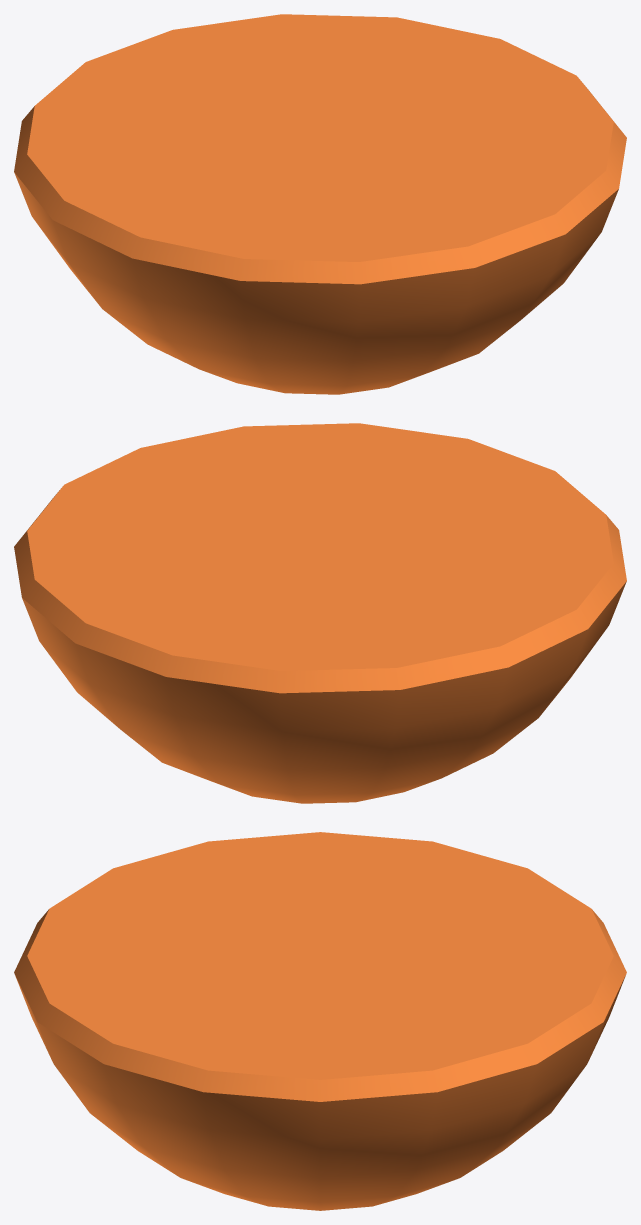
Rendered from Leg_07.fbx.
3 views of the same model, one above another, from view 1: azimuth 30°, elevation 25°; view 2: azimuth 150°, elevation 25°; view 3: azimuth 270°, elevation 25° (orthographic).
Parts seen in each view (by area): view 1: Leg_07; view 2: Leg_07; view 3: Leg_07.
Part boxes in pixels (box(x1,y1,x2,y2)): Leg_07: box(14, 14, 626, 394); Leg_07: box(14, 423, 626, 803); Leg_07: box(14, 832, 626, 1210).
Bounding box in the file's own units: 95.42 × 38.87 × 95.42.
